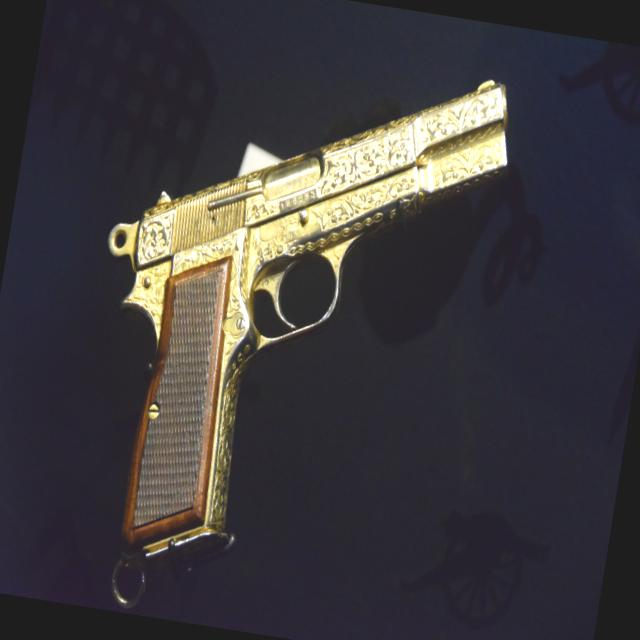handgun: (49, 13, 516, 606)
